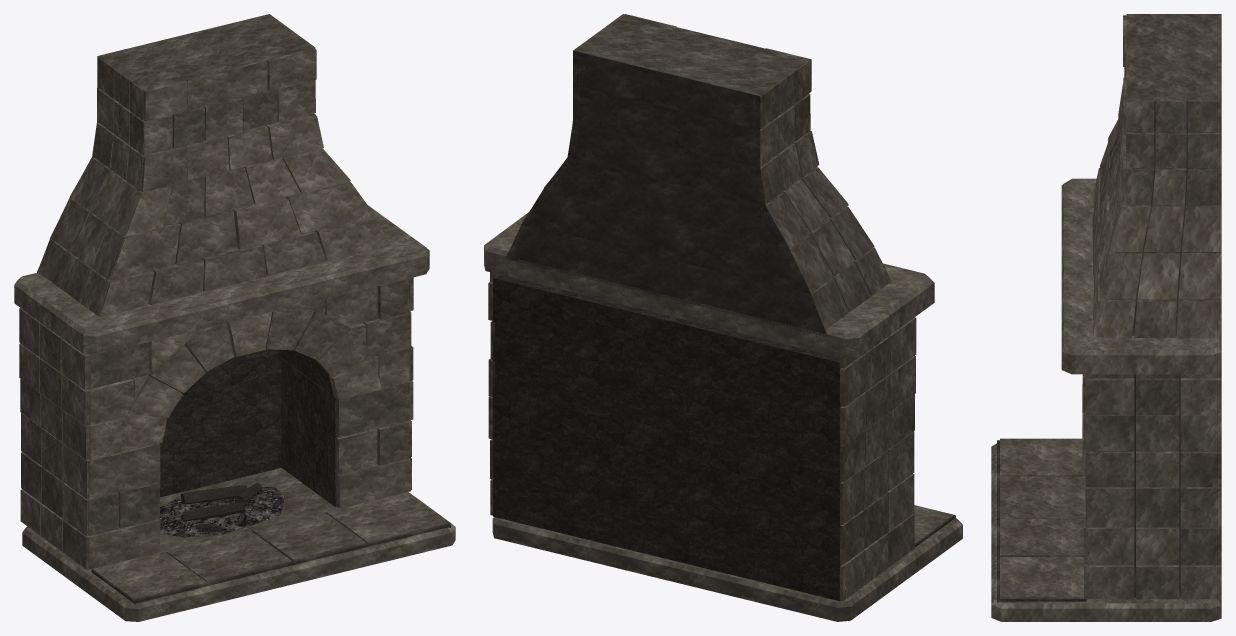
File: Lareira-Lenha-Queimada.glb
3 views of the same model, side by side, from view 1: azimuth 30°, elevation 25°; view 2: azimuth 150°, elevation 25°; view 3: azimuth 270°, elevation 25° (orthographic). The views are drawn at different scales.
Visible parts, largest first — view 1: Pedras da chaminé, Prateleira da lareira, Pedras dos pilares, Pedras laterais, Fundo da fornalha, Lajes da frente, Pedras do arco, Pedras acima do arco, Soleira, Chaminé, Laterais da fornalha, Piso da fornalha (+3 smaller); view 2: Fundo da fornalha, Chaminé, Pedras laterais, Pedras da chaminé, Prateleira da lareira, Soleira, Lajes da frente; view 3: Pedras laterais, Pedras da chaminé, Lajes da frente, Prateleira da lareira, Chaminé, Soleira, Pano de pedra, Pilares.
Part boxes in pixels (x1,y1,x2,y2): Pedras da chaminé: [37, 48, 390, 316]; Prateleira da lareira: [14, 205, 429, 354]; Pedras dos pilares: [87, 381, 410, 569]; Pedras laterais: [19, 277, 413, 569]; Fundo da fornalha: [159, 349, 281, 497]; Lajes da frente: [91, 492, 448, 600]; Pedras do arco: [119, 309, 381, 452]; Pedras acima do arco: [88, 278, 410, 459]; Soleira: [22, 492, 455, 621]; Chaminé: [45, 14, 315, 294]; Laterais da fornalha: [281, 358, 337, 506]; Piso da fornalha: [160, 468, 338, 551]; Fundo da fornalha: [493, 274, 841, 601]; Chaminé: [505, 14, 827, 337]; Pedras laterais: [488, 272, 916, 600]; Pedras da chaminé: [505, 14, 891, 333]; Prateleira da lareira: [484, 212, 934, 358]; Soleira: [492, 515, 962, 621]; Lajes da frente: [913, 505, 954, 544]; Pedras laterais: [1086, 371, 1221, 599]; Pedras da chaminé: [1092, 15, 1221, 341]; Lajes da frente: [1000, 438, 1085, 598]; Prateleira da lareira: [1061, 178, 1221, 374]; Chaminé: [1106, 14, 1221, 336]; Soleira: [991, 440, 1221, 621]; Pano de pedra: [1092, 374, 1201, 485]; Pilares: [1134, 486, 1180, 597].
Bounding box in the file's own units: 1.74 × 2.24 × 0.972.
5 materials, 5 textured.
